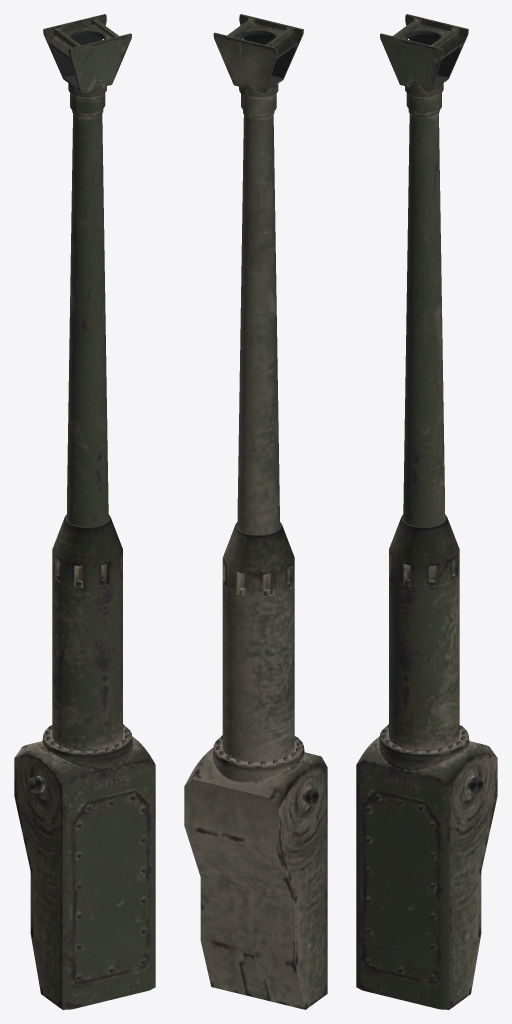
The model's file is Gun_04.glb.
3 renders of one model, left to right at view 1: azimuth 30°, elevation 25°; view 2: azimuth 150°, elevation 25°; view 3: azimuth 330°, elevation 25°, orthographic.
Parts seen in each view (by area): view 1: set_0_group_0; view 2: set_0_group_0; view 3: set_0_group_0.
Part boxes in pixels (bbox=[...]): set_0_group_0: bbox=[14, 14, 155, 1009]; set_0_group_0: bbox=[184, 14, 327, 1009]; set_0_group_0: bbox=[356, 14, 497, 1009].
Size of the model in its own units: 0.7142 by 5.89 by 0.577.
1 material, 1 textured.
